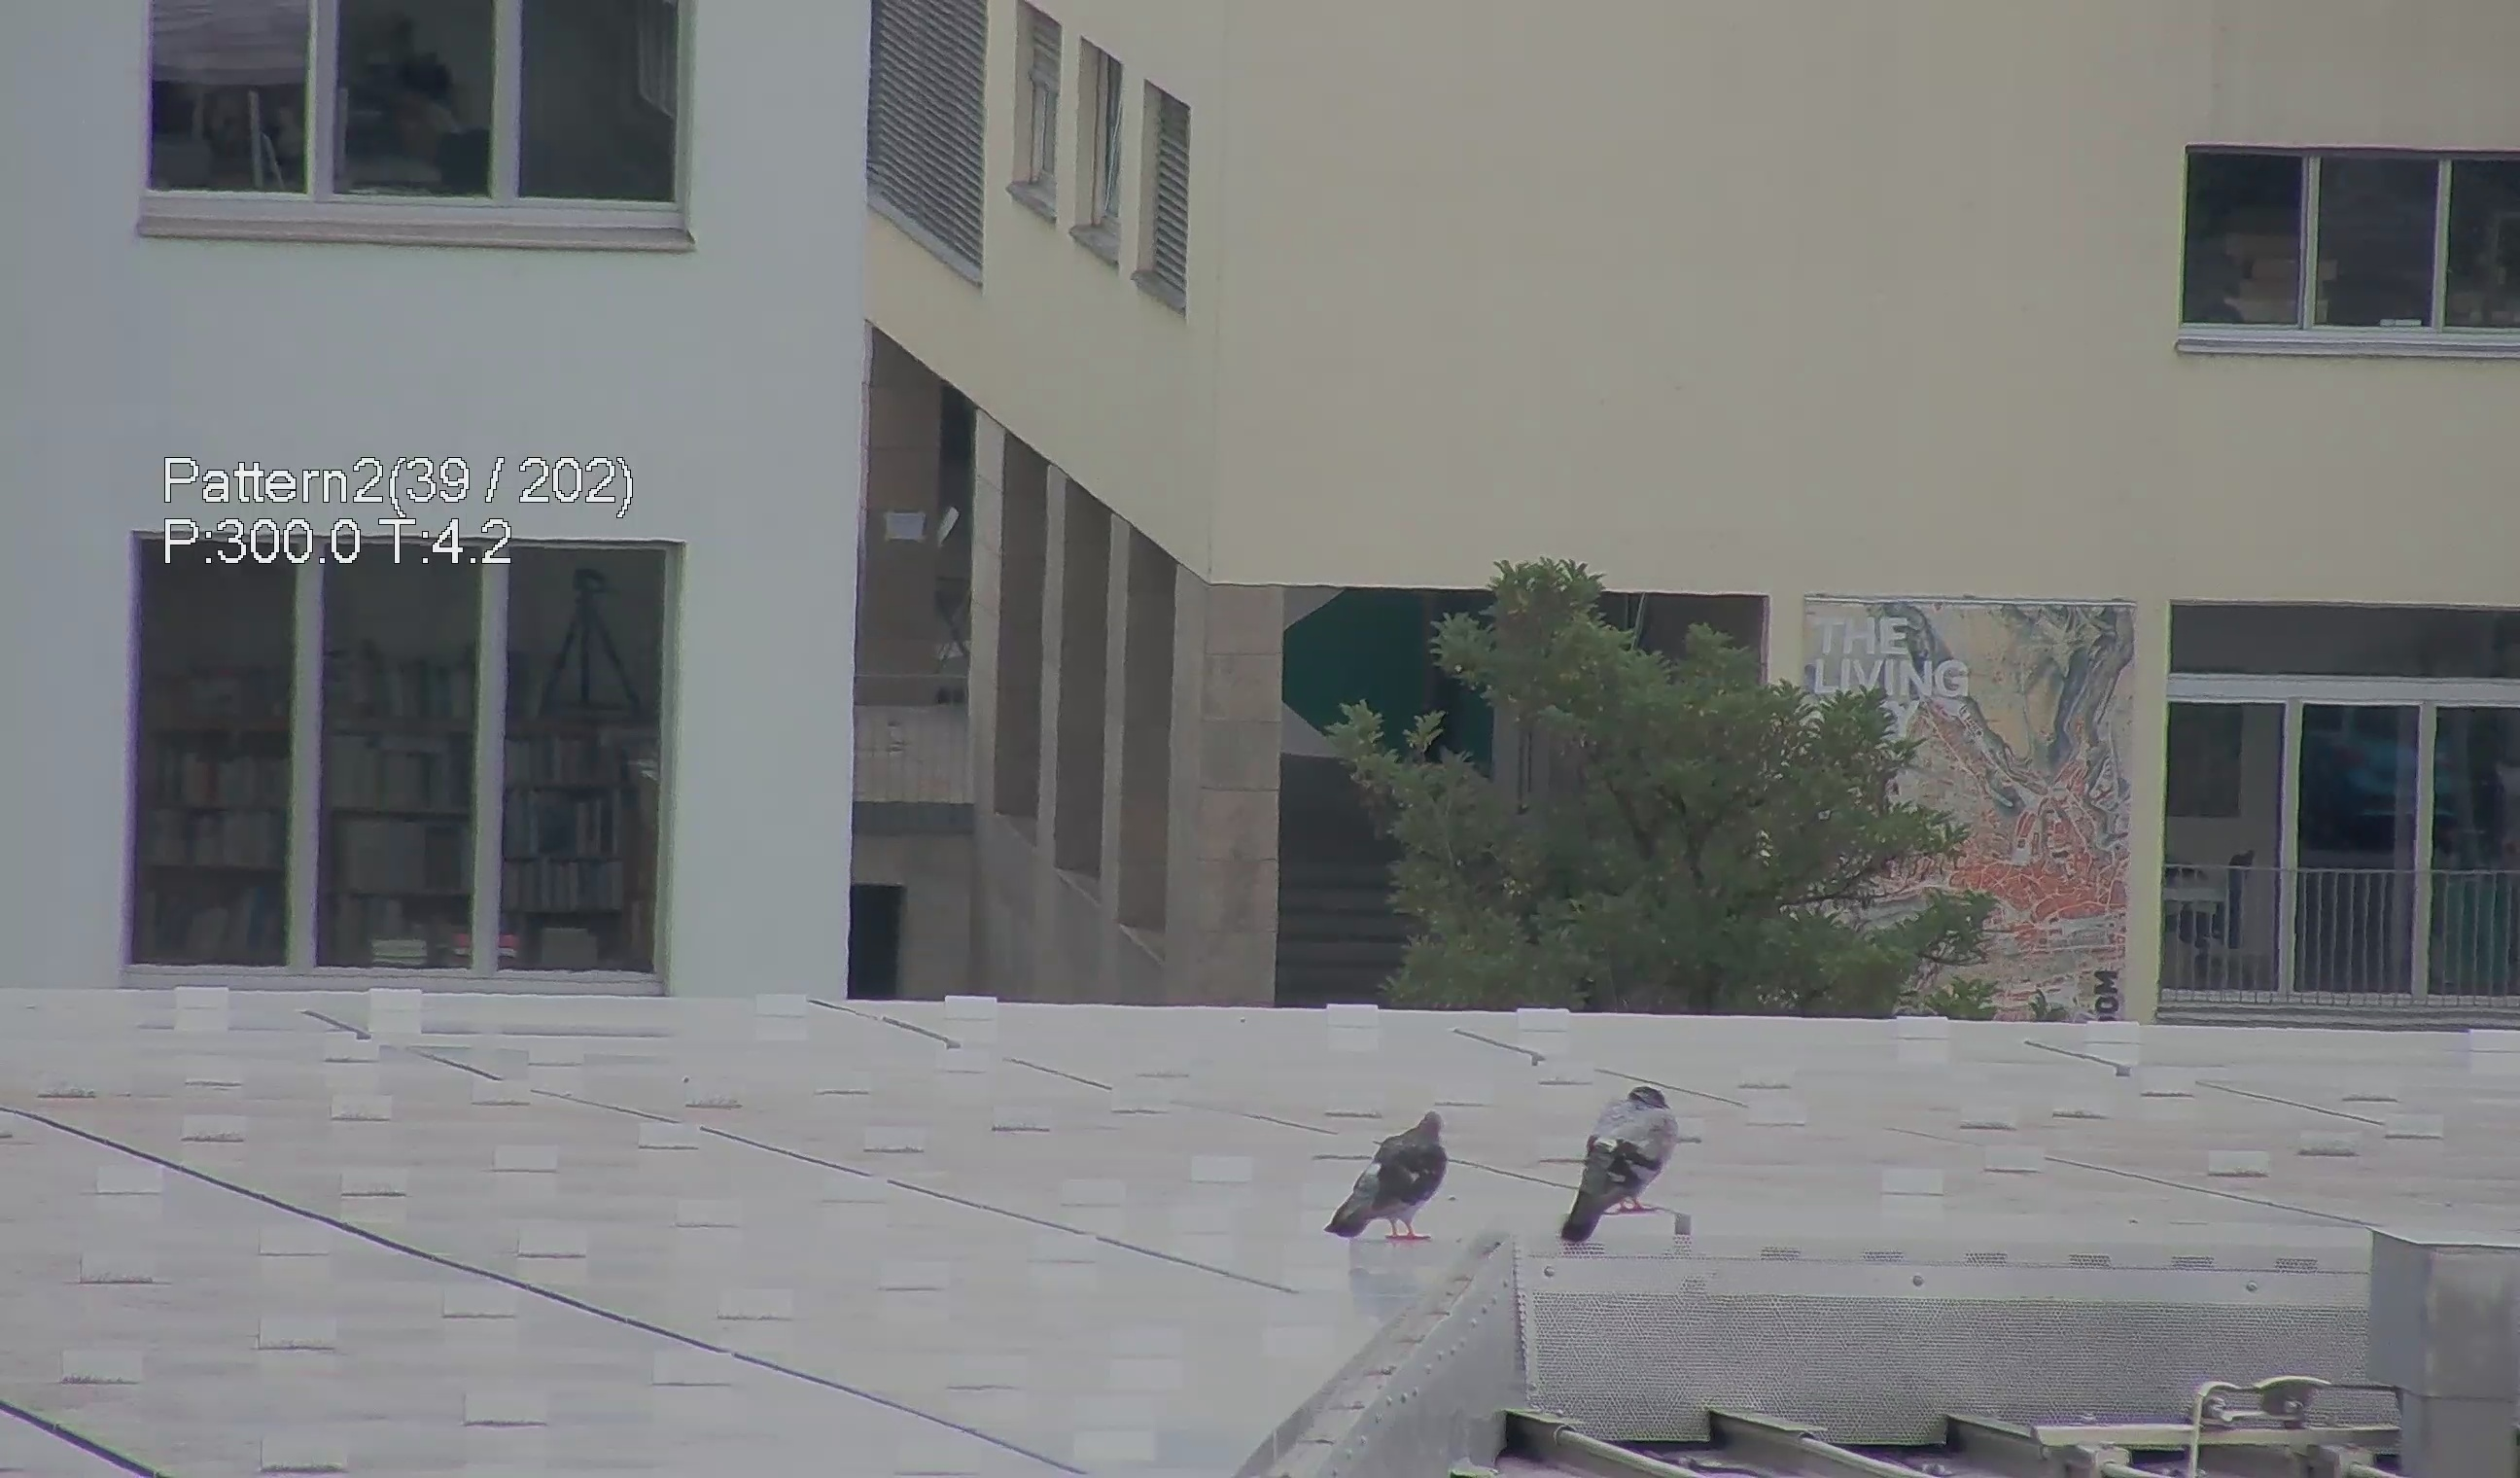Pigeon: (1549, 1079, 1708, 1255), (1317, 1107, 1472, 1253)
